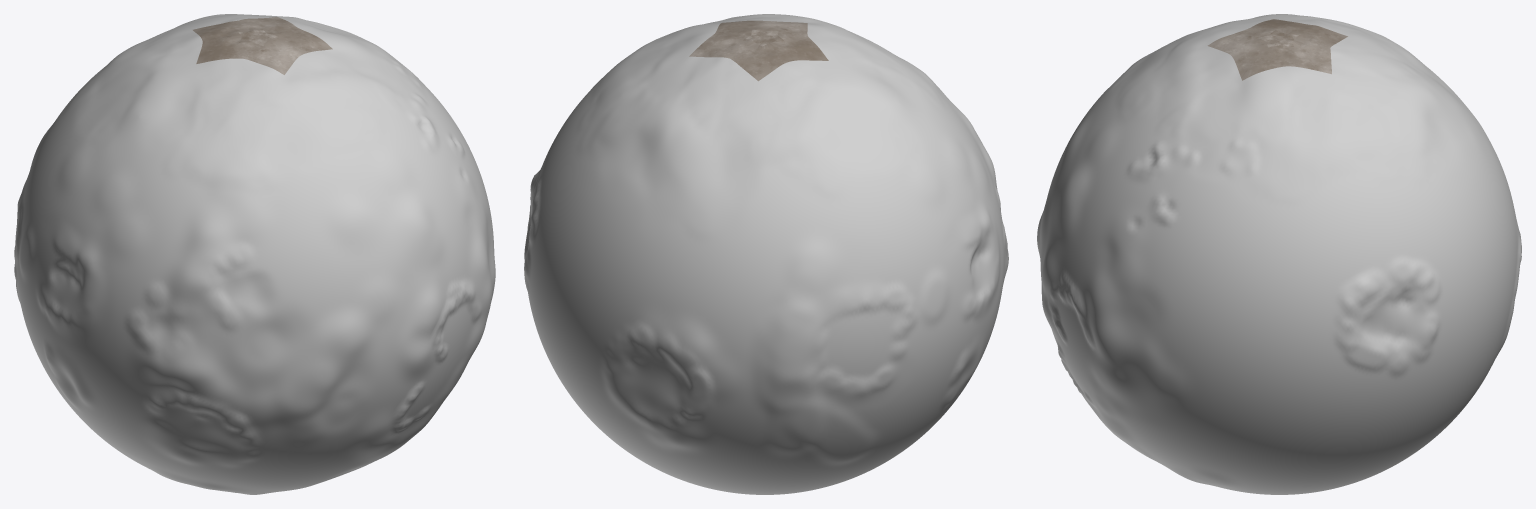
Rendered from MSH_Crater_Ground.fbx.
3 renders of one model, left to right at view 1: azimuth 30°, elevation 25°; view 2: azimuth 150°, elevation 25°; view 3: azimuth 270°, elevation 25°, orthographic.
Visible parts, largest first — view 1: MSH_Crater_Ground; view 2: MSH_Crater_Ground; view 3: MSH_Crater_Ground.
Part boxes in pixels (bbox=[...]): MSH_Crater_Ground: bbox=[14, 14, 495, 494]; MSH_Crater_Ground: bbox=[524, 14, 1008, 494]; MSH_Crater_Ground: bbox=[1037, 14, 1521, 494].
Bounding box in the file's own units: 20090 × 20020 × 20245.
